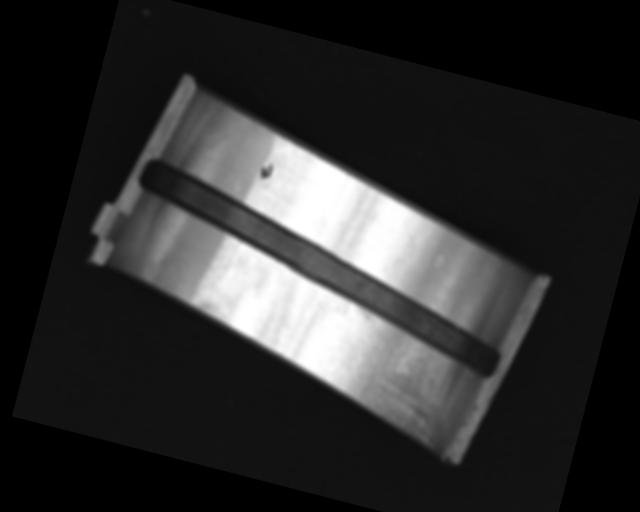blot: (257, 158, 276, 181)
bruise: (432, 254, 444, 269)
gap: (113, 156, 525, 377)
nick: (217, 235, 240, 281)
scratch: (325, 305, 471, 451)
